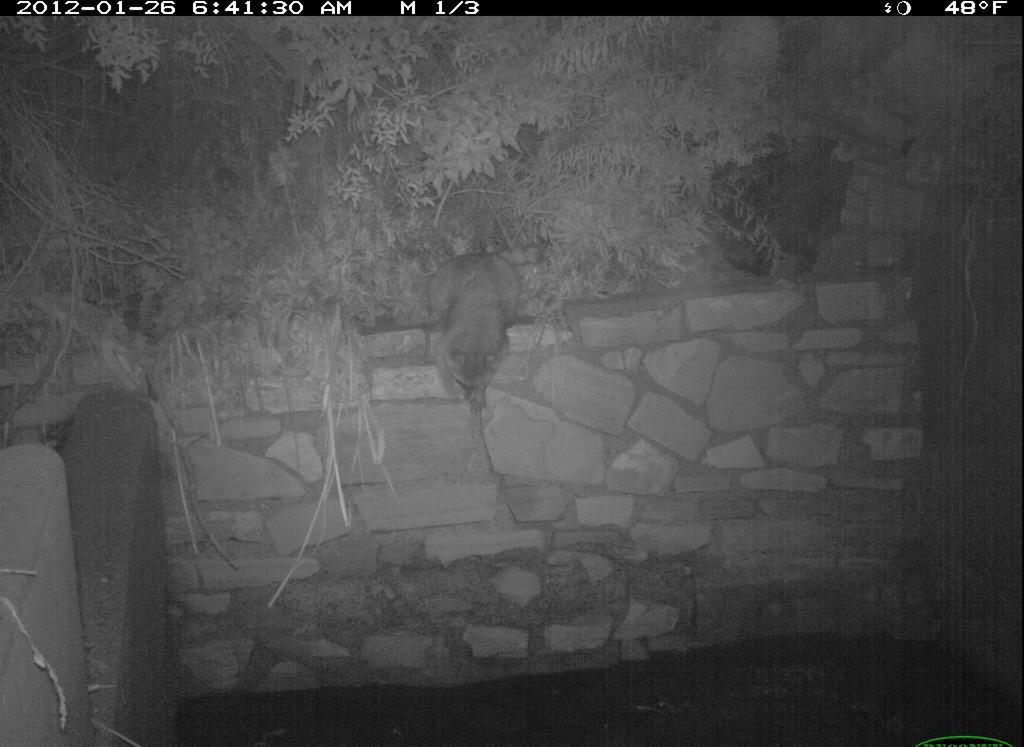raccoon: (409, 244, 542, 424)
